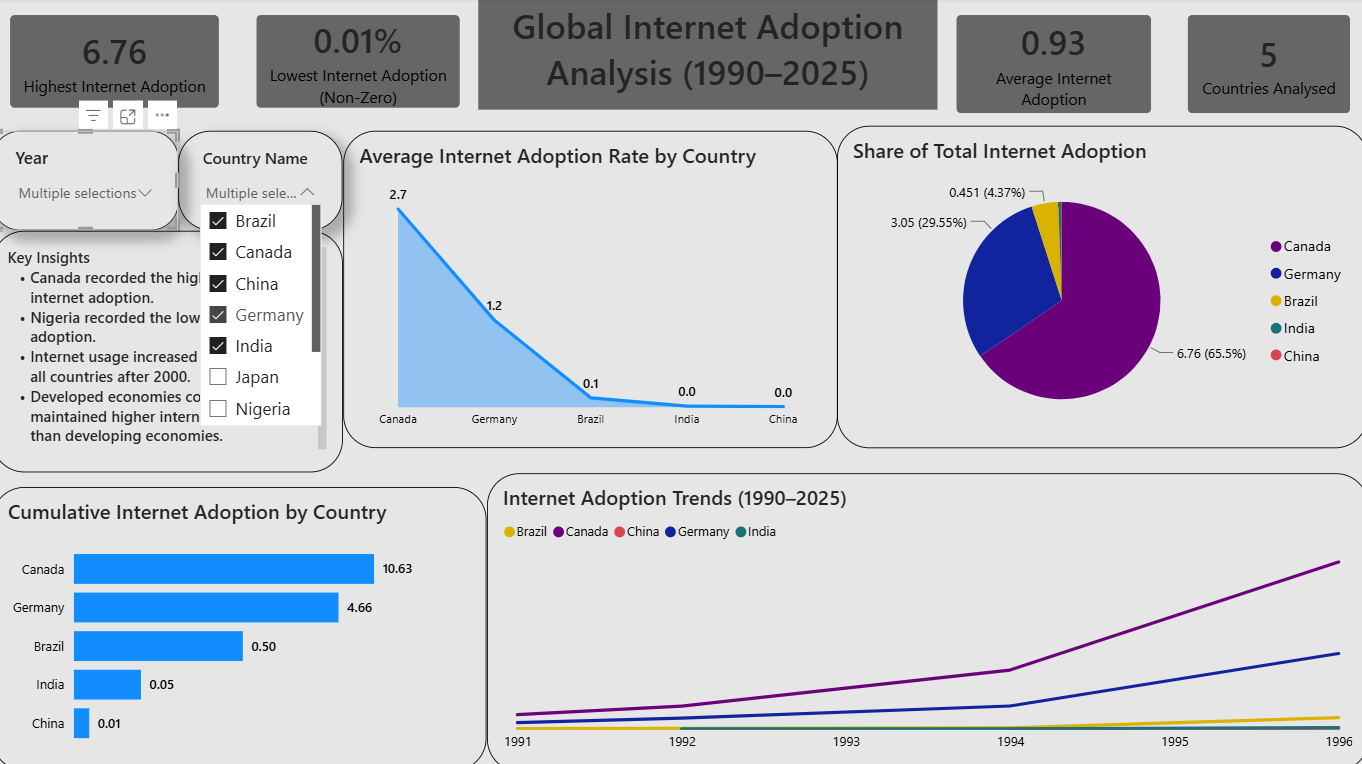

The page's visual inventory and layout, read from the dashboard file:
{"tool":"powerbi","page":{"name":"Page 1","canvas":[1280,720],"ordinal":0},"visuals":[{"type":"cardVisual","fields":{"Data":["Cleaned_Internet_Indicators.Lowest Internet Adoption (Non-Zero)"]},"box":[228.8,0,223.8,120],"z":0},{"type":"clusteredBarChart","title":"Cumulative Internet Adoption by Country","fields":{"Category":["Cleaned_Internet_Indicators.Country Name"],"Y":["Sum(Cleaned_Internet_Indicators.Value)"]},"box":[0,456.2,460,263.8],"z":1000},{"type":"lineChart","title":"Internet Adoption Trends (1990–2025)","fields":{"Y":["Cleaned_Internet_Indicators.Average Internet Users"],"Category":["Cleaned_Internet_Indicators.Year"],"Series":["Cleaned_Internet_Indicators.Country Name"]},"box":[460,442.5,820,277.5],"z":2000},{"type":"cardVisual","fields":{"Data":["Cleaned_Internet_Indicators.Highest Internet Adoption"]},"box":[0,0,228.8,120],"z":3000},{"type":"cardVisual","fields":{"Data":["Cleaned_Internet_Indicators.Average Internet Users"]},"box":[880,0,215,125],"z":4000},{"type":"cardVisual","fields":{"Data":["Cleaned_Internet_Indicators.Countries Analysed"]},"box":[1095,0,185,125],"z":5000},{"type":"areaChart","title":"Average Internet Adoption Rate by Country","fields":{"Category":["Cleaned_Internet_Indicators.Country Name"],"Y":["Cleaned_Internet_Indicators.Average Internet Users"]},"box":[326.2,125,460,295],"z":6000},{"type":"pieChart","title":"Share of Total Internet Adoption","fields":{"Category":["Cleaned_Internet_Indicators.Country Name"],"Y":["Cleaned_Internet_Indicators.Highest Internet Adoption"]},"box":[786.2,120,493.8,300],"z":7000},{"type":"slicer","fields":{"Values":["Cleaned_Internet_Indicators.Country Name"]},"box":[173.8,125,152.5,92.5],"z":8000},{"type":"slicer","fields":{"Values":["Cleaned_Internet_Indicators.Year"]},"box":[0,125,173.8,92.5],"z":9000},{"type":"textbox","box":[0,217.5,326.2,225],"z":10000},{"type":"textbox","box":[452.5,0,427.5,105],"z":11000}]}

Visuals, with their boxes in screenshot pixels (x1, y1, x2, y2):
cardVisual - Cleaned_Internet_Indicators.Lowest Internet Adoption (Non-Zero): [234,0,476,119]
"Cumulative Internet Adoption by Country" clusteredBarChart: [0,483,484,763]
"Internet Adoption Trends (1990–2025)" lineChart: [484,469,1361,763]
cardVisual - Cleaned_Internet_Indicators.Highest Internet Adoption: [0,0,234,119]
cardVisual - Cleaned_Internet_Indicators.Average Internet Users: [939,0,1172,125]
cardVisual - Cleaned_Internet_Indicators.Countries Analysed: [1172,0,1361,125]
"Average Internet Adoption Rate by Country" areaChart: [339,125,837,444]
"Share of Total Internet Adoption" pieChart: [837,119,1361,444]
slicer - Cleaned_Internet_Indicators.Country Name: [174,125,339,225]
slicer - Cleaned_Internet_Indicators.Year: [0,125,174,225]
textbox: [0,225,339,469]
textbox: [476,0,939,103]
